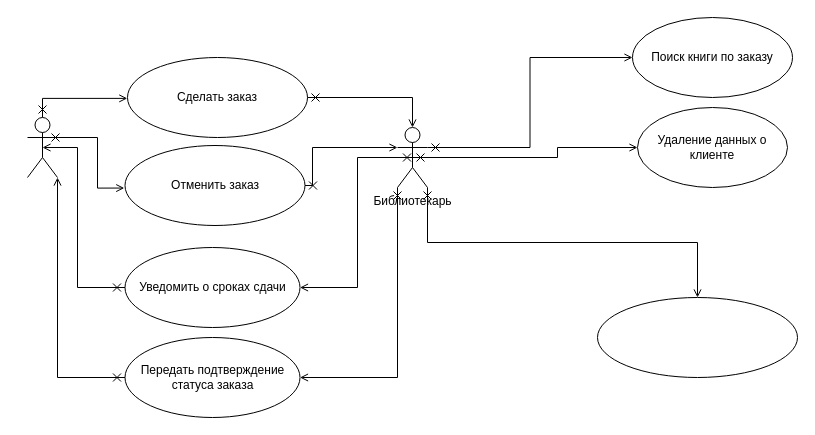
Image size: 815x435. Some labels were removed from this diagram. Here are the shapes that lost their labels. From the top down, the centre of each, then its label:
[42,147]: Читатель
[697,337]: Проверка данных о сроках сдачи
